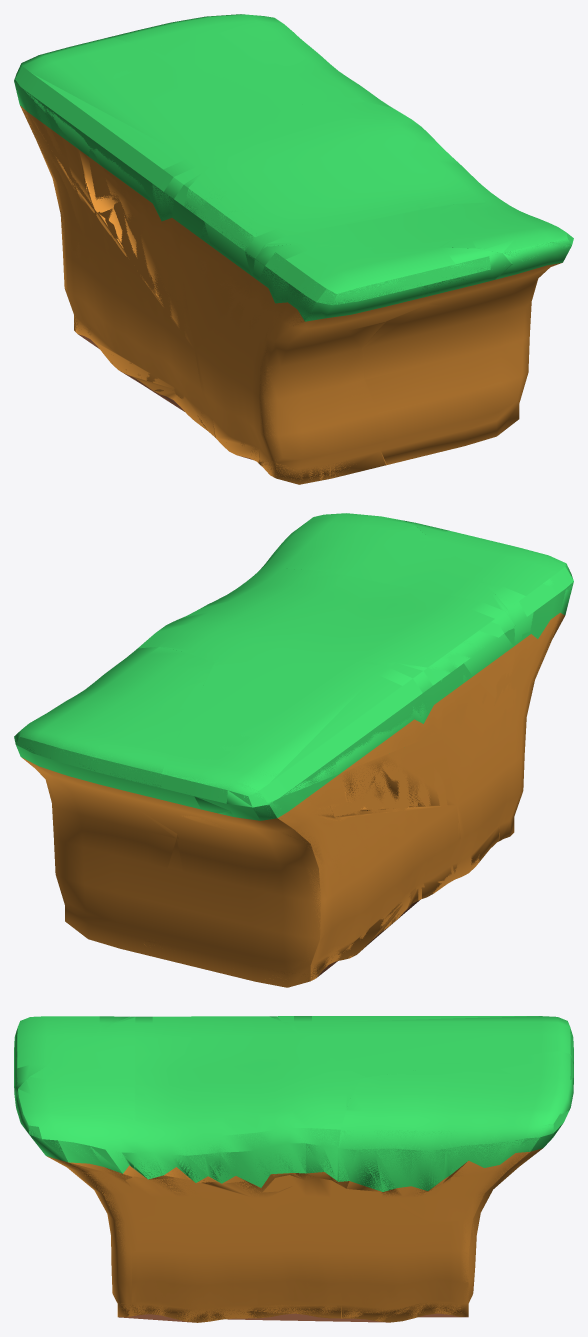
File: Smash01 NEW PLATFORM03.fbx
3 renders of one model, top to bottom at view 1: azimuth 30°, elevation 25°; view 2: azimuth 150°, elevation 25°; view 3: azimuth 270°, elevation 25°, orthographic. The views are drawn at different scales.
Parts seen in each view (by area): view 1: Cube, Cube_cell.002, Cube_cell, Cube_cell.005, Cube_cell.001, Cube_cell.003, Cube_cell.004; view 2: Cube, Cube_cell.005, Cube_cell.001, Cube_cell.004, Cube_cell.003, Cube_cell.002, Cube_cell; view 3: Cube, Cube_cell.004, Cube_cell.003, Cube_cell.005, Cube_cell, Cube_cell.002.
Part boxes in pixels (left/top/right/bottom): Cube: left=14, top=38, right=573, bottom=481; Cube_cell.002: left=249, top=244, right=511, bottom=484; Cube_cell: left=262, top=202, right=571, bottom=464; Cube_cell.005: left=15, top=38, right=293, bottom=245; Cube_cell.001: left=14, top=79, right=215, bottom=437; Cube_cell.003: left=180, top=102, right=485, bottom=462; Cube_cell.004: left=104, top=14, right=392, bottom=107; Cube: left=15, top=513, right=573, bottom=987; Cube_cell.005: left=163, top=662, right=434, bottom=813; Cube_cell.001: left=144, top=732, right=460, bottom=981; Cube_cell.004: left=14, top=646, right=214, bottom=867; Cube_cell.003: left=159, top=569, right=514, bottom=872; Cube_cell.002: left=403, top=520, right=573, bottom=841; Cube_cell: left=282, top=518, right=509, bottom=616; Cube: left=14, top=1016, right=573, bottom=1322; Cube_cell.004: left=337, top=1051, right=573, bottom=1322; Cube_cell.003: left=131, top=1016, right=359, bottom=1322; Cube_cell.005: left=269, top=1016, right=573, bottom=1078; Cube_cell: left=15, top=1016, right=134, bottom=1317; Cube_cell.002: left=14, top=1016, right=129, bottom=1101.
Bounding box in the file's own units: 145 × 122 × 291.
